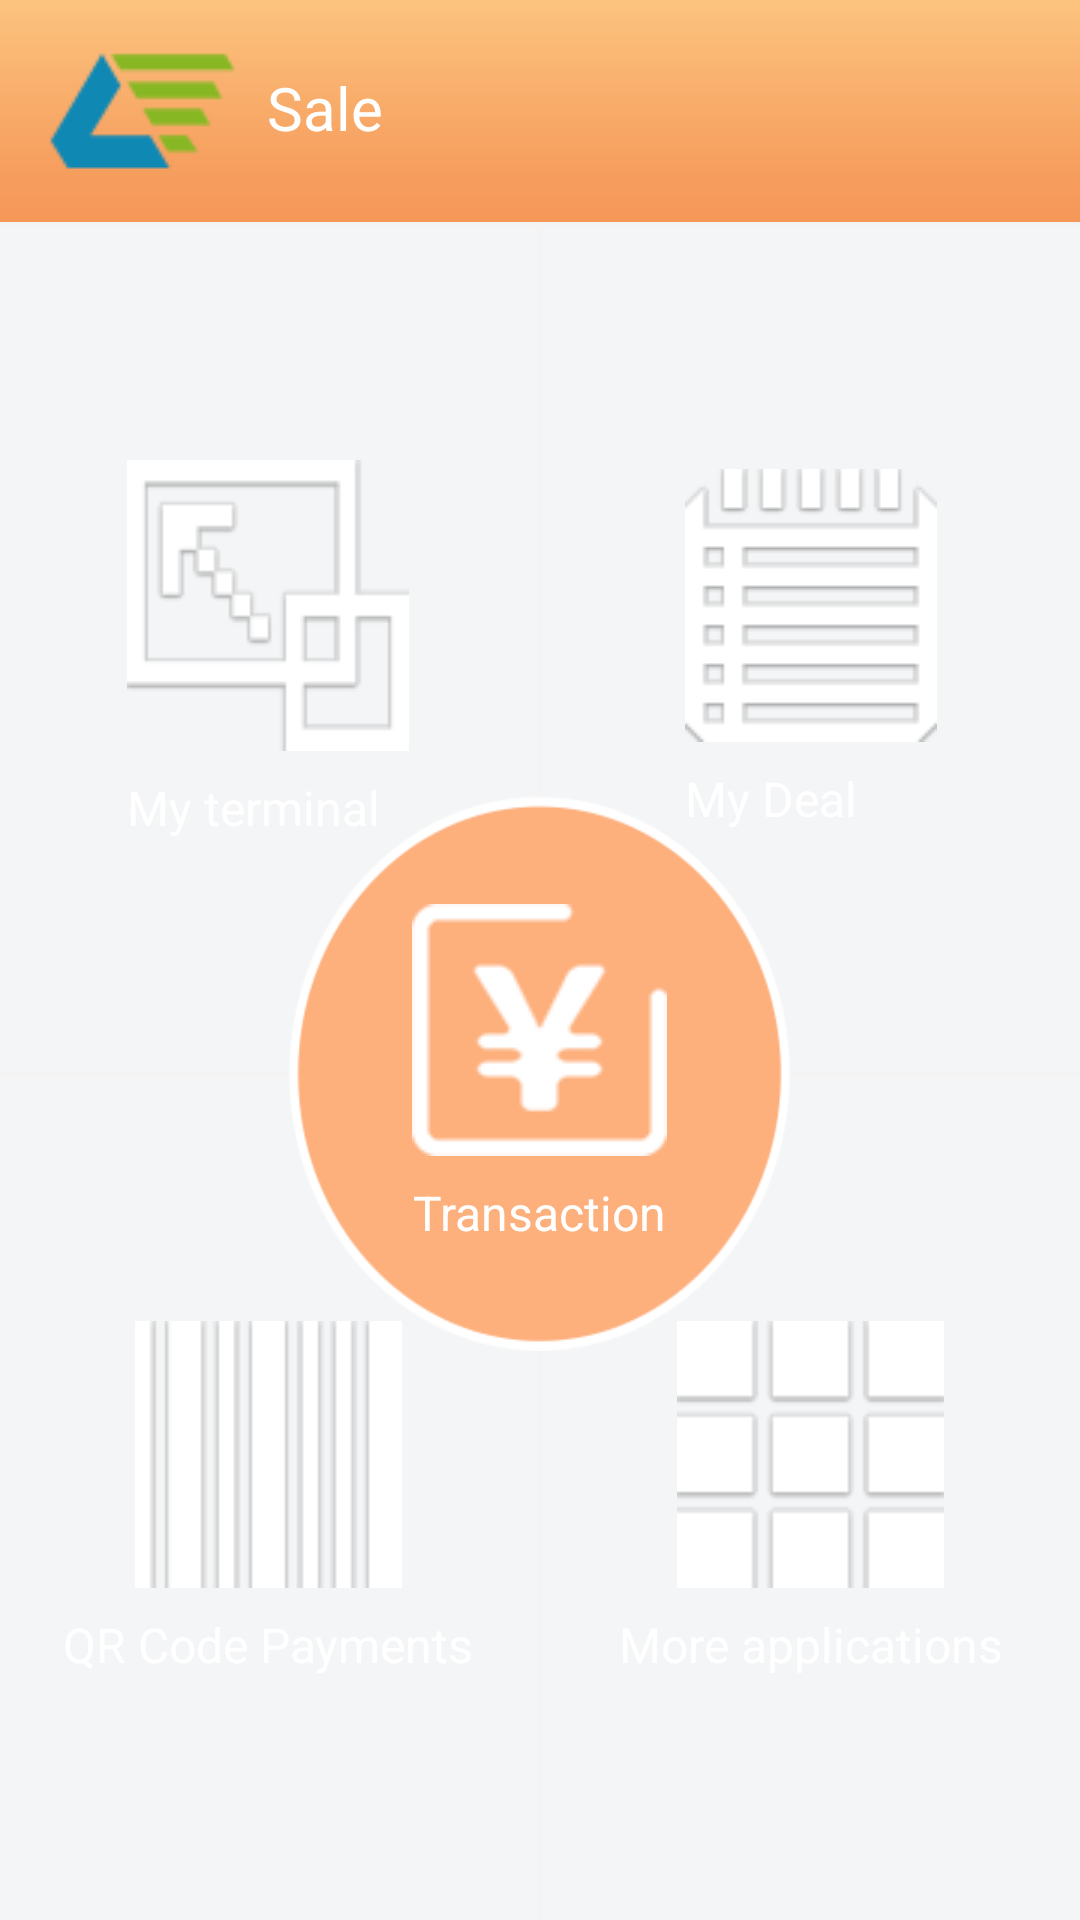

Icons on this 1080×1920 Android screen, each with its box as (x1, y1, x2, y2):
shouyintai: (412, 904, 667, 1156)
